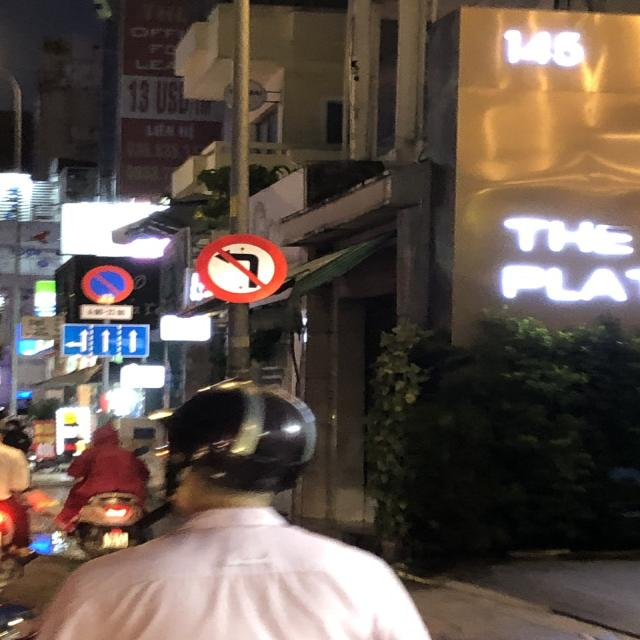Bien bao cam do xe: (78, 262, 136, 305)
Bien bao cam re trai: (188, 226, 297, 304)
